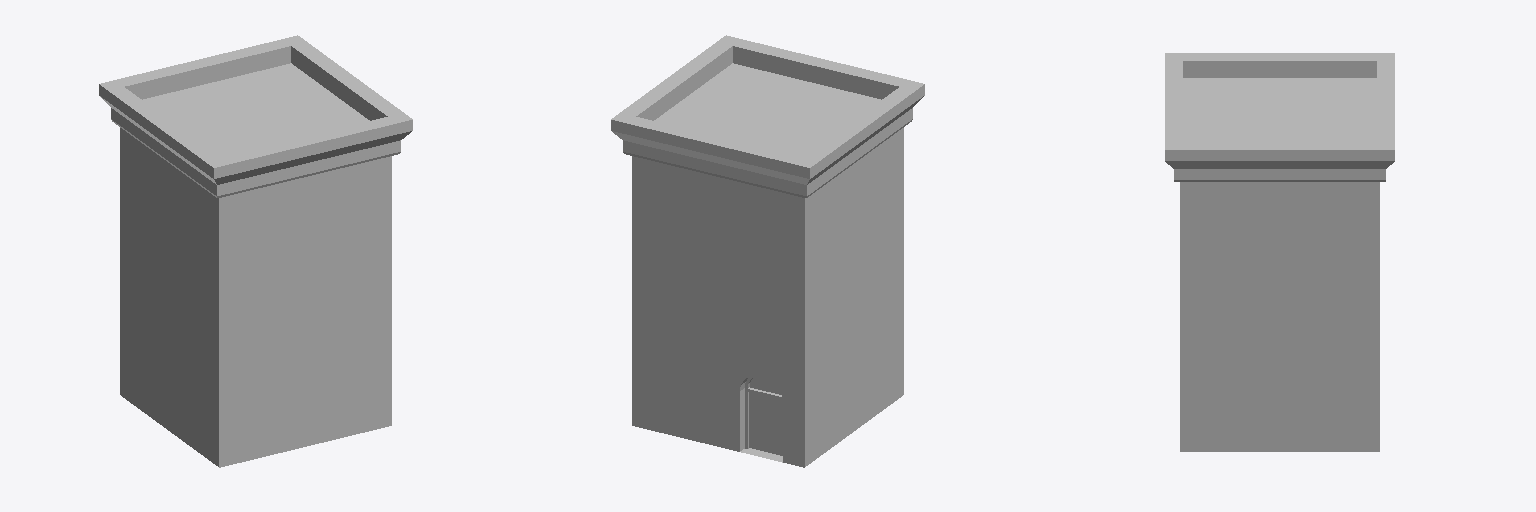
File: residential_brick_2.obj
3 views of the same model, side by side, from view 1: azimuth 30°, elevation 25°; view 2: azimuth 150°, elevation 25°; view 3: azimuth 270°, elevation 25° (orthographic).
Visible parts, largest first — view 1: building_1; view 2: building_1; view 3: building_1.
Boxes of the visible parts, x1=… form: building_1: x1=99, y1=35, x2=412, y2=467; building_1: x1=611, y1=35, x2=924, y2=467; building_1: x1=1165, y1=53, x2=1394, y2=451.
Size of the model in its own units: 0.6925 by 1.02 by 0.6925.